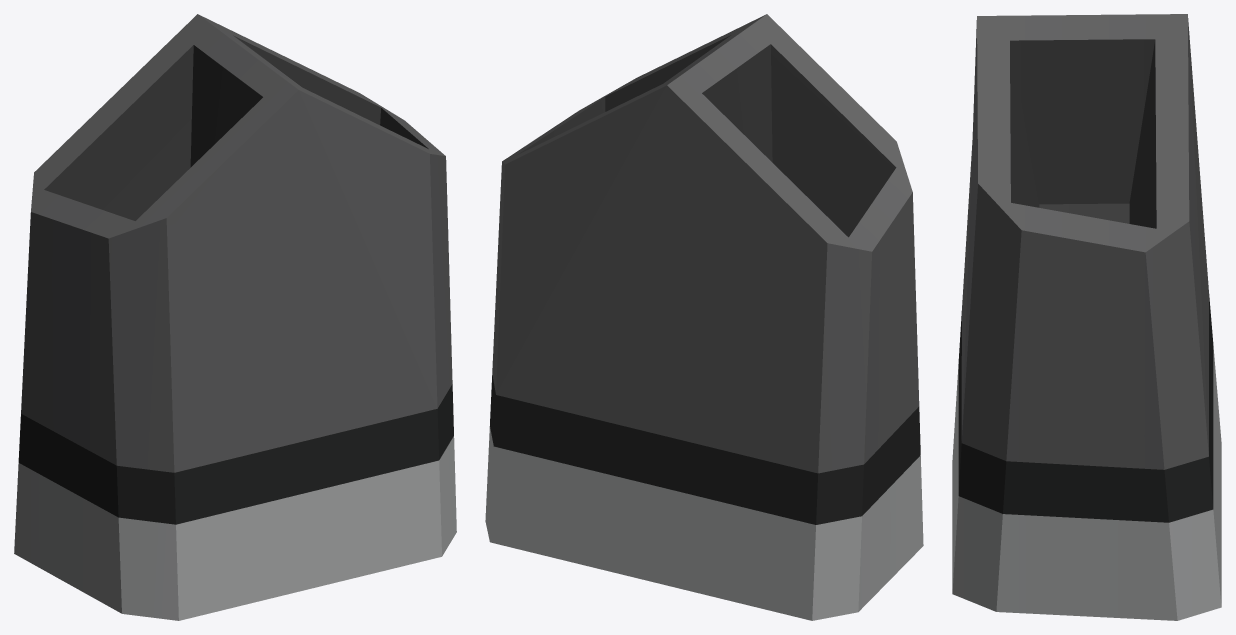
Rendered from Cargo_drone_001_engine_004.fbx.
3 renders of one model, left to right at view 1: azimuth 30°, elevation 25°; view 2: azimuth 150°, elevation 25°; view 3: azimuth 270°, elevation 25°, orthographic. The views are drawn at different scales.
Visible parts, largest first — view 1: Cargo_drone_001_engine_004; view 2: Cargo_drone_001_engine_004; view 3: Cargo_drone_001_engine_004.
Part boxes in pixels (box(x1,y1,x2,y2)): Cargo_drone_001_engine_004: box(14, 14, 456, 620); Cargo_drone_001_engine_004: box(485, 14, 923, 620); Cargo_drone_001_engine_004: box(952, 14, 1221, 620).
Size of the model in its own units: 28.72 by 17.02 by 35.84.
